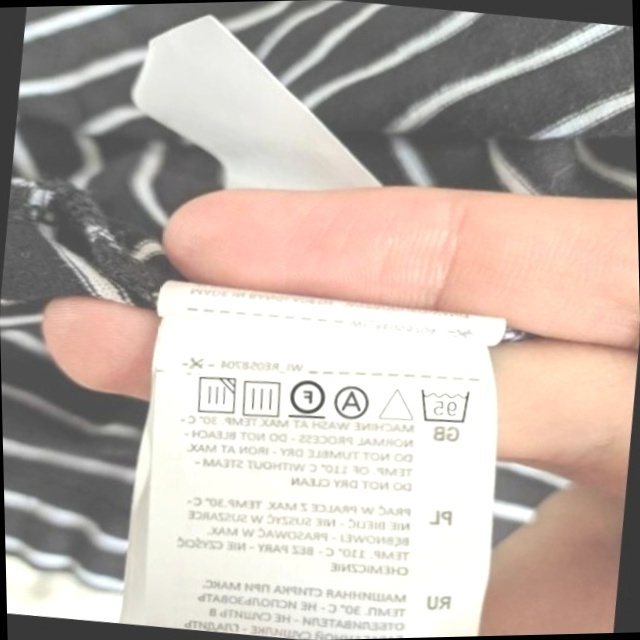95C: (414, 382, 475, 429)
bleach: (377, 380, 417, 426)
drip_dry: (237, 374, 286, 421)
drip_dry_in_shade: (189, 370, 239, 420)
dry_clean: (331, 381, 375, 423)
dry_clean_petrol_only: (285, 372, 330, 423)
